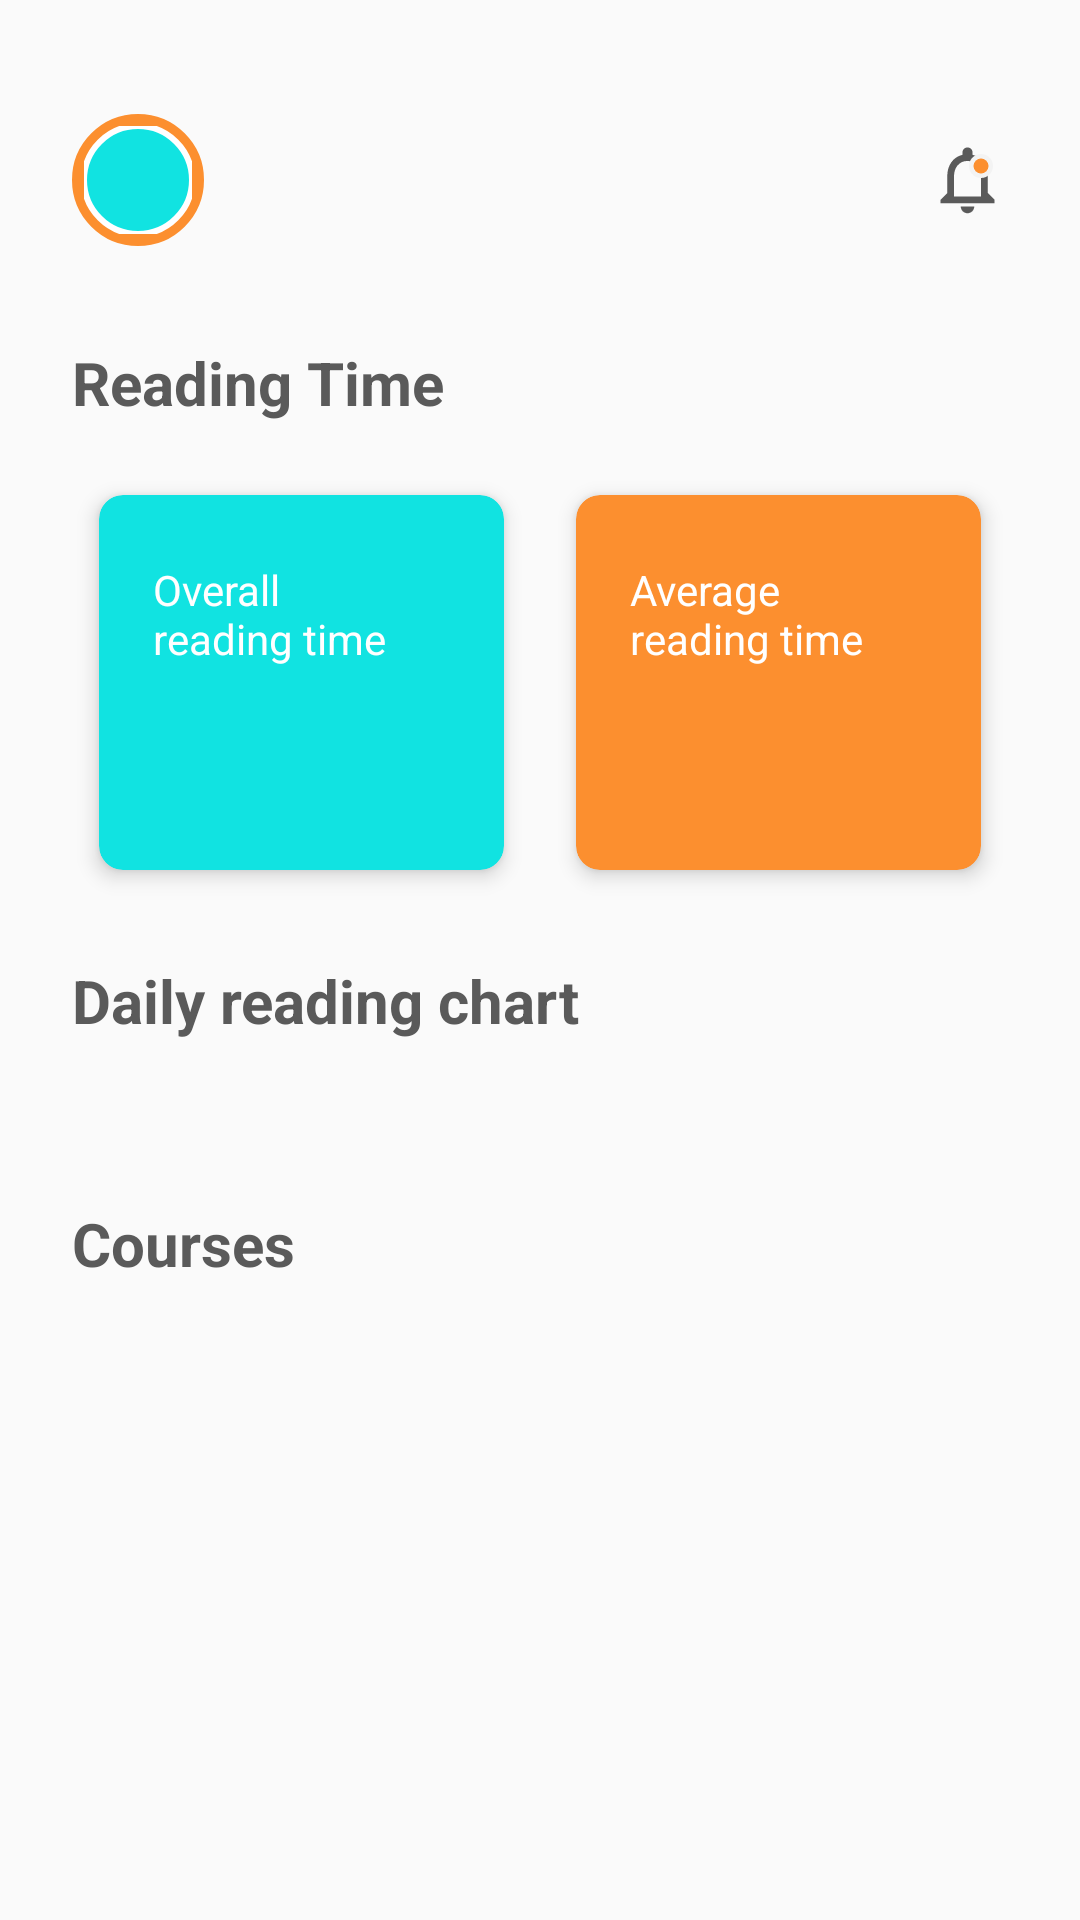

Screen size 1080 × 1920. Icon name, then its center in pixels as (x=x, y=y):
notifications: (x=967, y=180)
